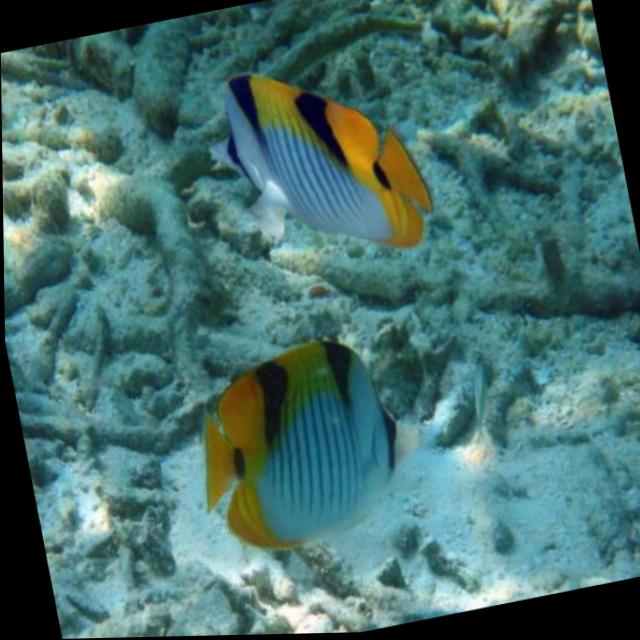Dead Coral: (0, 16, 246, 435), (399, 247, 640, 449), (248, 0, 597, 101)
